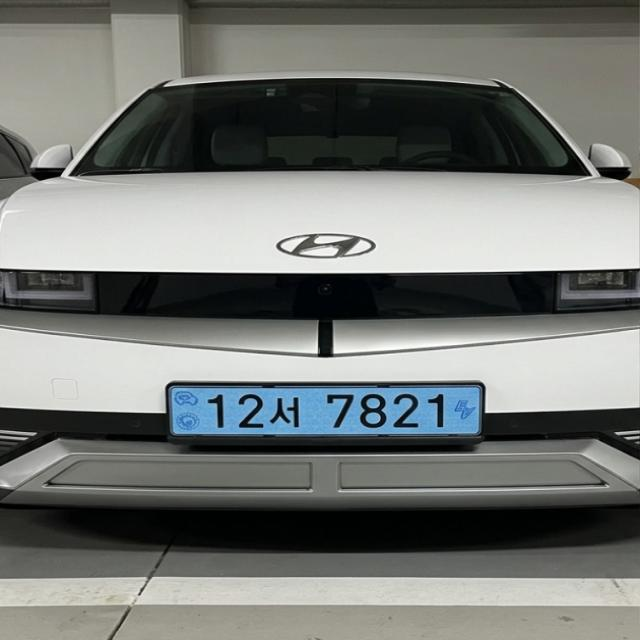car: (134, 361, 532, 478)
carev: (168, 386, 206, 440), (448, 387, 479, 437)
